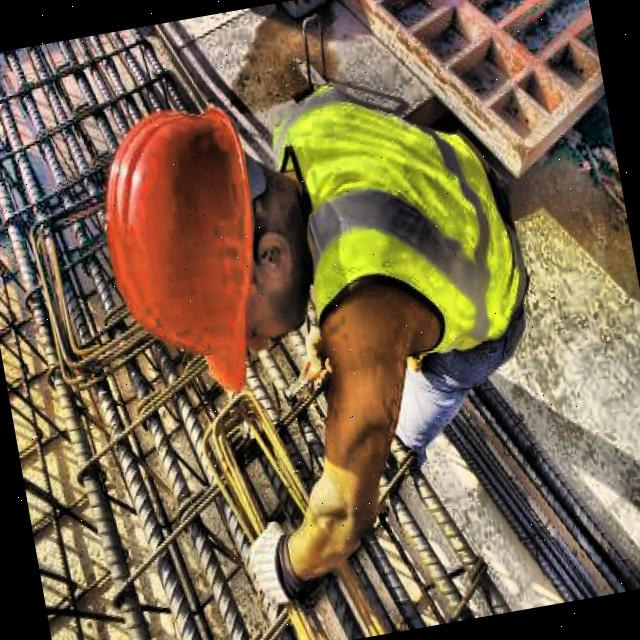helmet: (72, 74, 328, 407)
